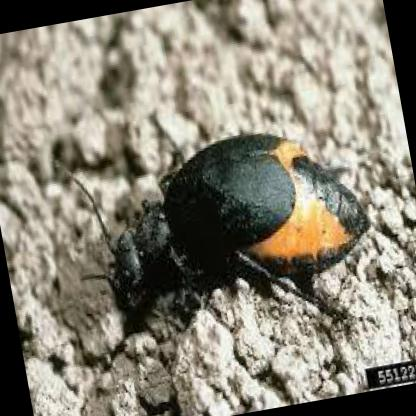blister beetle: (84, 129, 372, 322)
